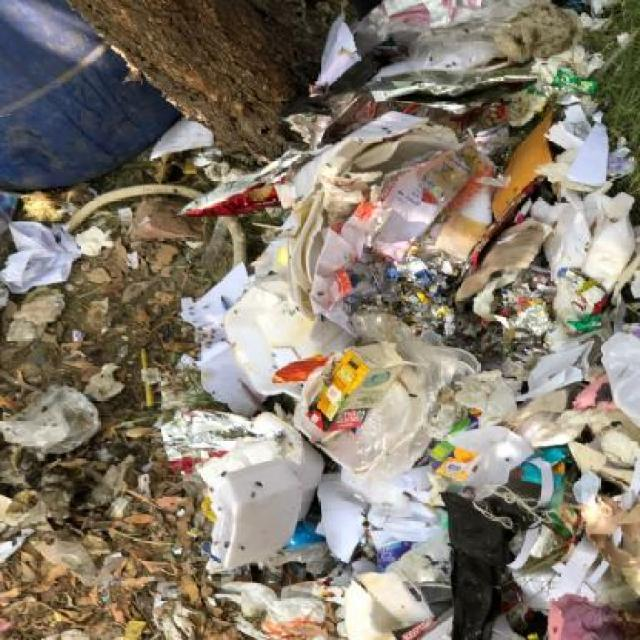garbage: (329, 1, 640, 640), (0, 189, 168, 640), (171, 160, 327, 639)
